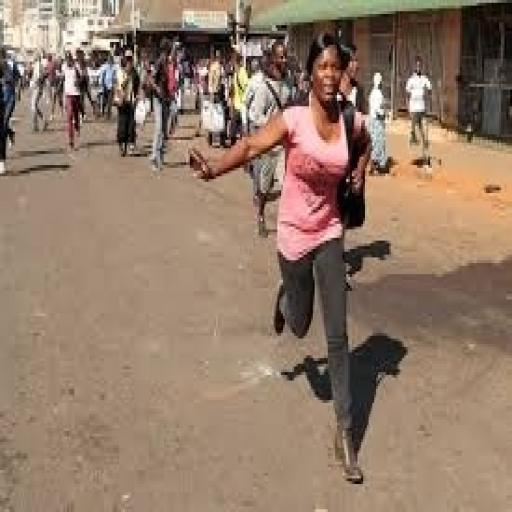running: (186, 28, 384, 487)
